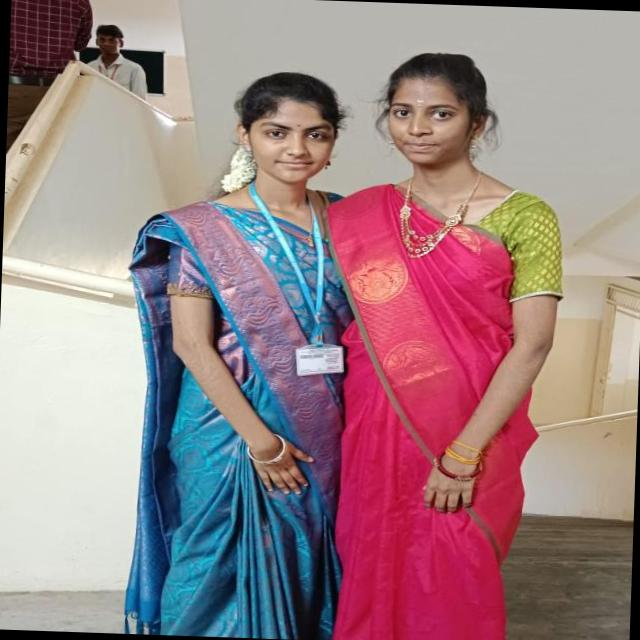id_card: (242, 181, 356, 380)
